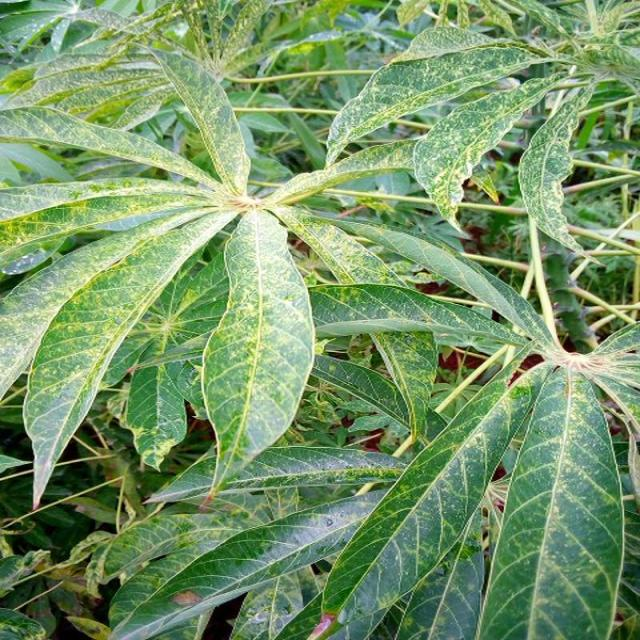cassava leaf: (0, 1, 638, 638), (474, 361, 625, 638), (199, 206, 315, 503)
